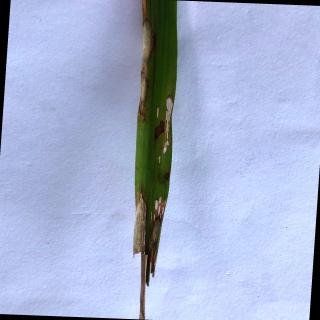Hawar-Daun: (138, 0, 154, 123), (156, 95, 175, 165), (132, 190, 145, 254), (150, 196, 167, 222)
